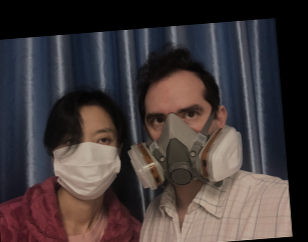with_mask: (145, 102, 218, 189), (52, 127, 121, 200)
